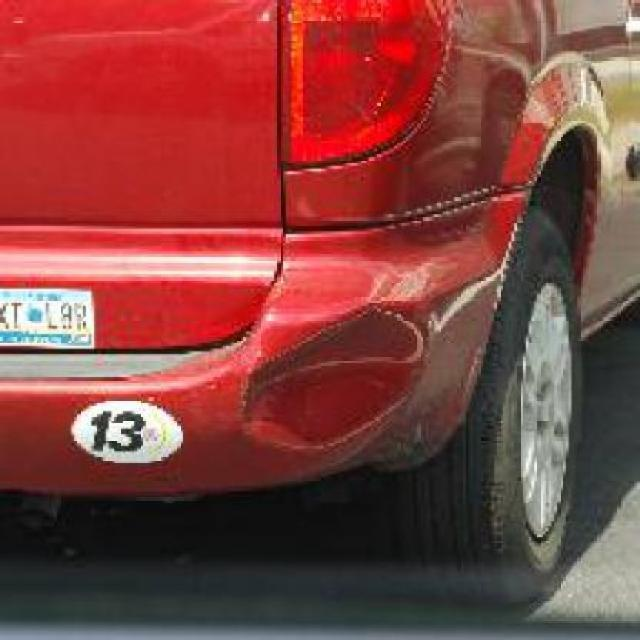dent-or-scratch: (220, 302, 440, 447)
